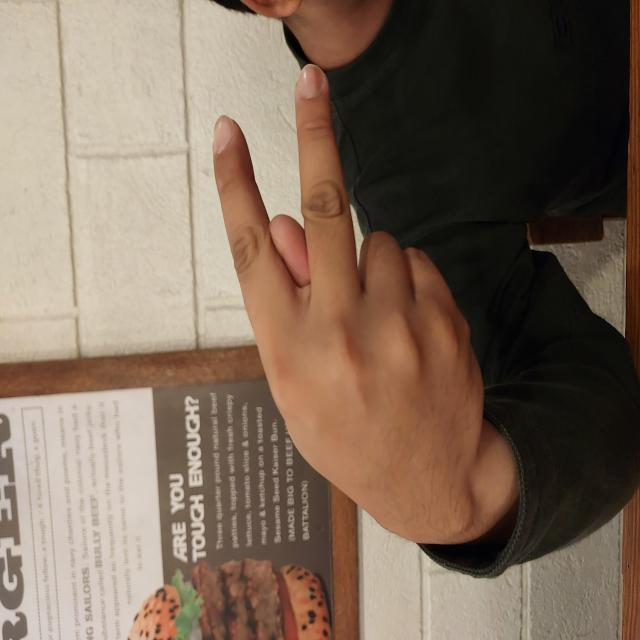K: (96, 210, 580, 486)
